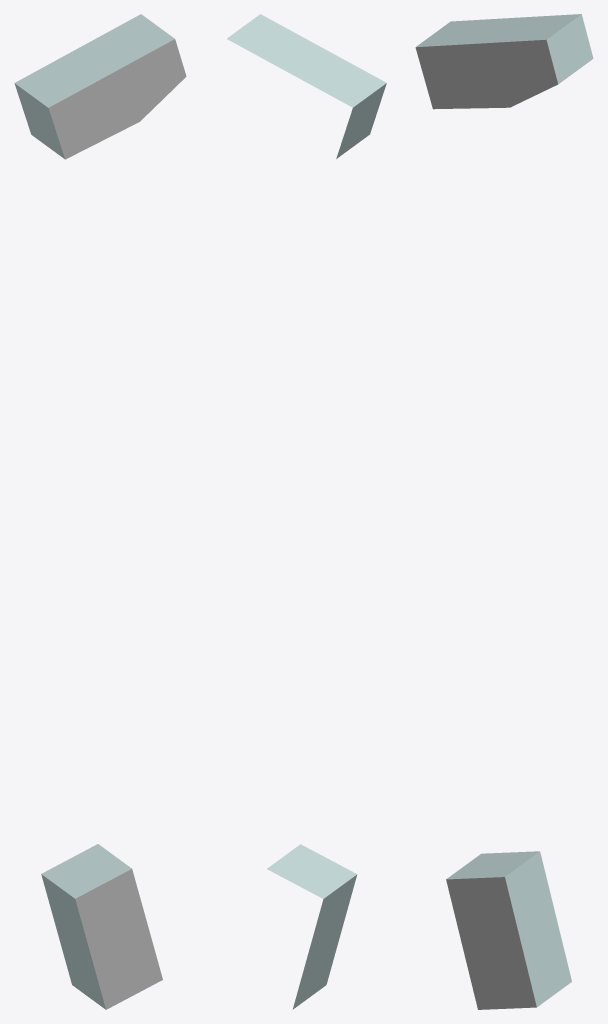
3 renders of one model, left to right at view 1: azimuth 30°, elevation 25°; view 2: azimuth 150°, elevation 25°; view 3: azimuth 330°, elevation 25°, orthographic. The views are drawn at different scales.
Visible parts, largest first — view 1: 0_2_2_3_1_1_1_1_0; view 2: 0_2_2_3_1_1_1_1_0; view 3: 0_2_2_3_1_1_1_1_0.
Boxes of the visible parts, x1,y1,x2,y2 form: 0_2_2_3_1_1_1_1_0: (14, 14, 186, 1009); 0_2_2_3_1_1_1_1_0: (227, 14, 386, 1009); 0_2_2_3_1_1_1_1_0: (415, 14, 593, 1009).
Size of the model in its own units: 7.03 by 46.45 by 3.12.
